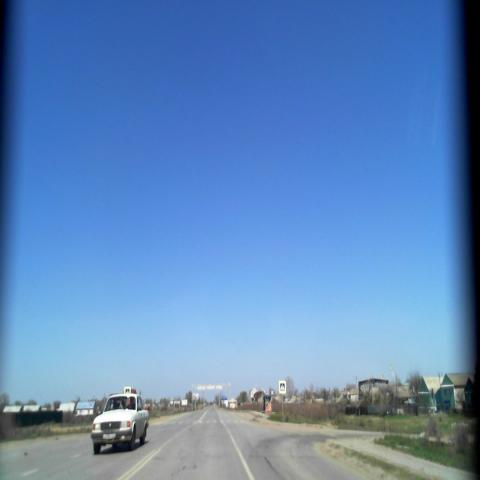5_19_1: (278, 379, 286, 394), (123, 385, 131, 395)
